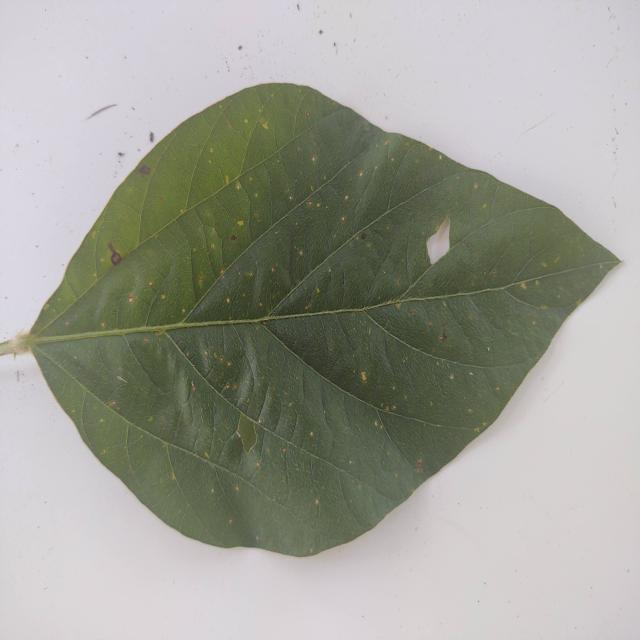Soybean: (0, 82, 619, 562)
downey_mildew: (179, 333, 408, 545), (0, 283, 568, 348), (289, 167, 466, 308), (58, 332, 200, 467), (222, 319, 378, 428), (166, 90, 288, 228), (39, 232, 193, 341), (360, 285, 531, 372), (312, 366, 423, 497), (186, 225, 317, 325), (222, 409, 392, 486), (276, 212, 393, 315), (483, 221, 618, 305), (417, 201, 533, 295), (386, 332, 500, 419), (156, 440, 247, 545), (285, 138, 385, 229), (92, 179, 160, 282), (120, 427, 187, 526), (154, 327, 227, 417), (202, 171, 265, 274), (256, 351, 317, 456), (42, 349, 110, 440), (258, 441, 326, 532), (20, 318, 249, 345), (329, 458, 399, 533), (256, 85, 326, 156), (77, 392, 136, 473), (380, 145, 440, 221), (146, 131, 206, 206), (357, 395, 470, 433), (27, 260, 86, 332), (142, 233, 188, 321), (130, 326, 186, 389), (190, 138, 238, 200), (226, 343, 261, 425), (278, 301, 418, 321), (132, 314, 273, 333), (63, 241, 106, 302), (190, 223, 219, 300)
